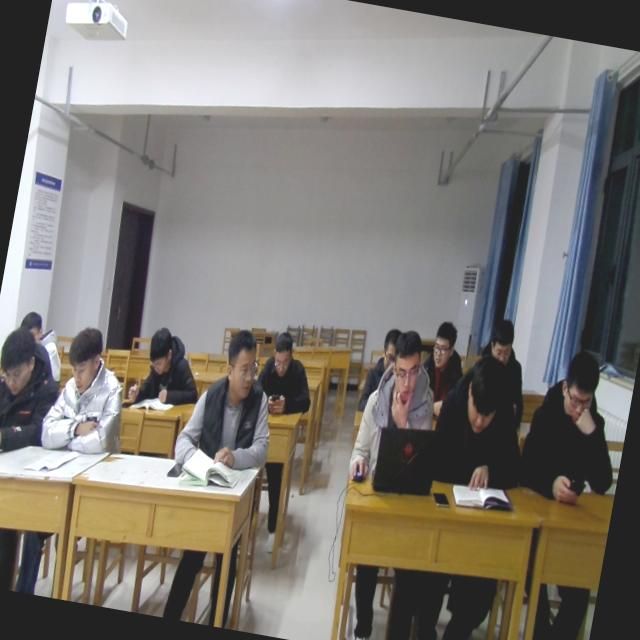down: (552, 346, 605, 430), (458, 352, 510, 436), (58, 317, 108, 398), (387, 325, 429, 403), (0, 323, 40, 399), (142, 324, 176, 377), (426, 314, 458, 370), (266, 331, 298, 380), (486, 317, 518, 362), (378, 323, 400, 368)
lookup: (16, 304, 48, 339)
sit: (512, 341, 635, 512), (170, 322, 289, 481), (346, 324, 448, 495), (424, 351, 537, 500), (38, 320, 136, 460), (0, 323, 62, 465), (126, 323, 210, 414), (253, 328, 322, 421), (413, 318, 472, 422), (477, 317, 540, 404), (354, 321, 402, 414)
